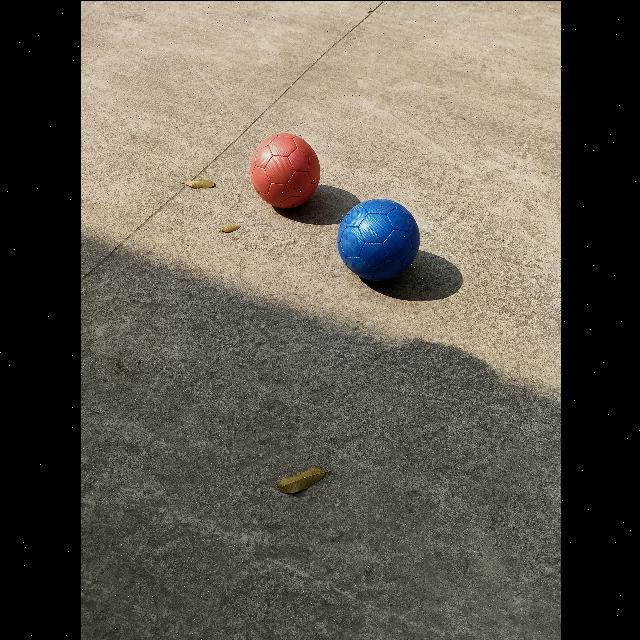R: (335, 198, 420, 284), (248, 131, 320, 214)
